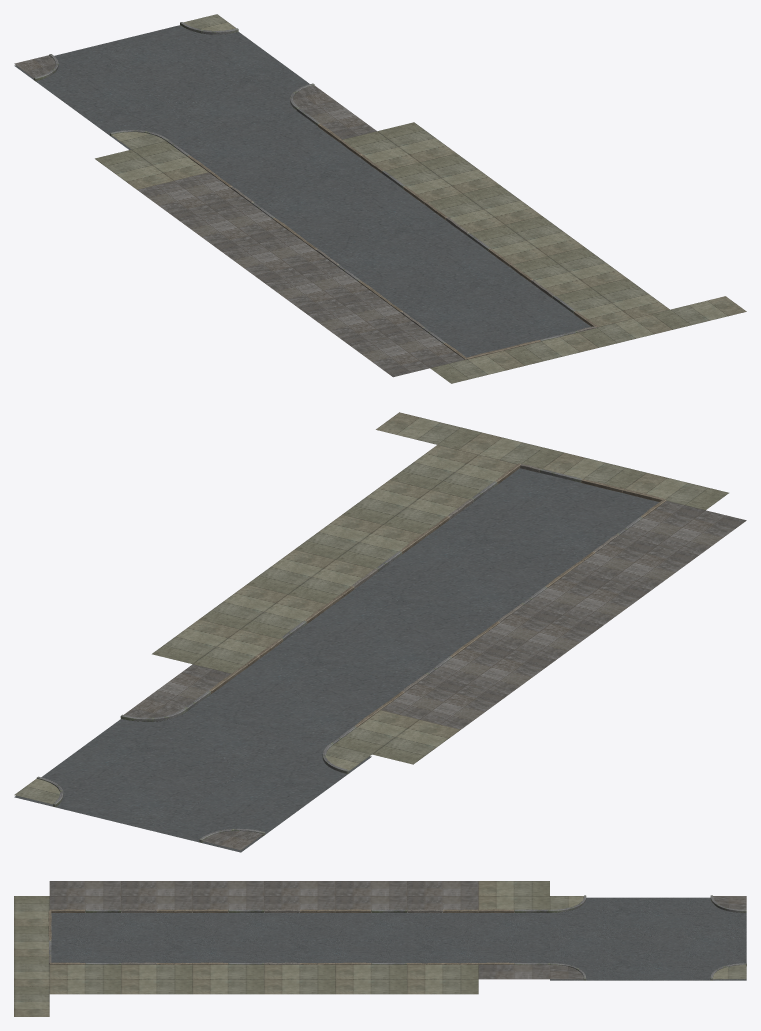
The picture shows the model from 3 angles, top to bottom: view 1: azimuth 30°, elevation 25°; view 2: azimuth 150°, elevation 25°; view 3: azimuth 270°, elevation 25°; orthographic projection. The views are drawn at different scales.
Parts seen in each view (by area): view 1: Optimized_Scene_03_LOD0; view 2: Optimized_Scene_03_LOD0; view 3: Optimized_Scene_03_LOD0.
Boxes of the visible parts, left/top/right/bottom form: Optimized_Scene_03_LOD0: left=14, top=14, right=746, bottom=383; Optimized_Scene_03_LOD0: left=14, top=412, right=746, bottom=852; Optimized_Scene_03_LOD0: left=14, top=881, right=746, bottom=1016.
Size of what is drawn, in the model's own units: 1800 by 19.08 by 4101.
